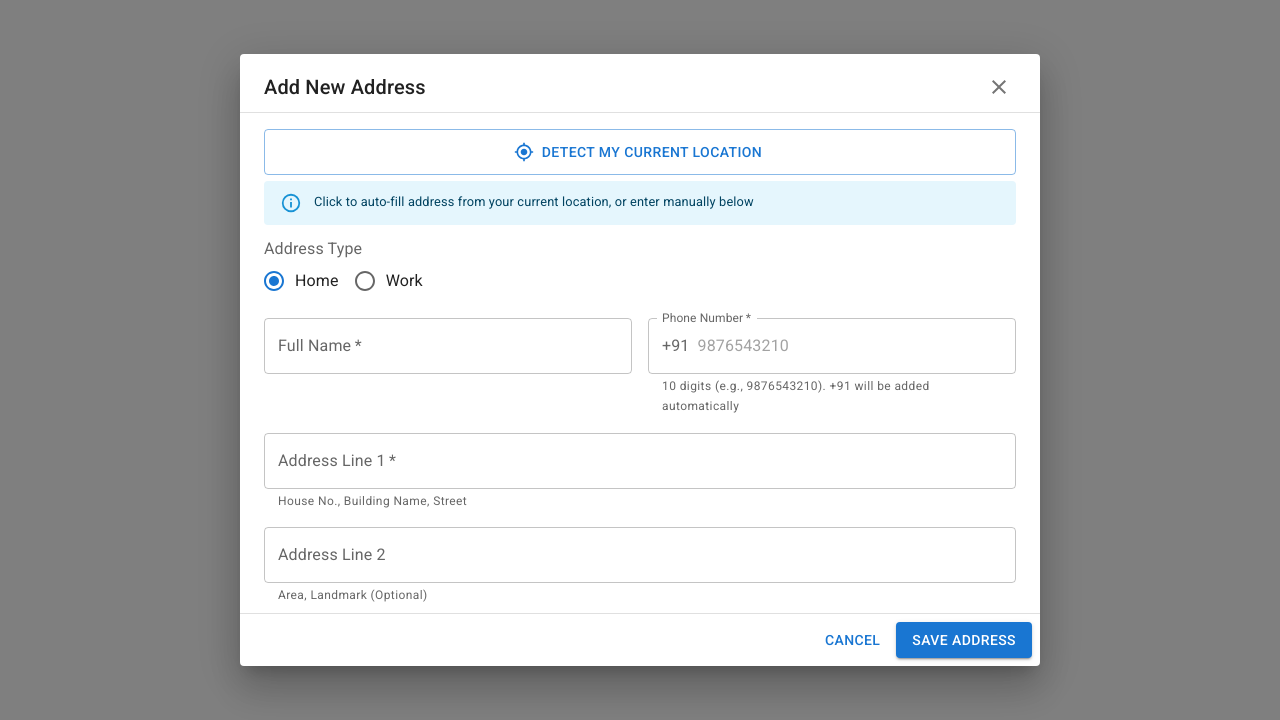
Test case: AddressForm Component › Form Validation › shows validation errors when submitting empty form
Click the button "Save Address": (964, 640) top-left (896, 622), bottom-right (1032, 658)
(page scrolled)
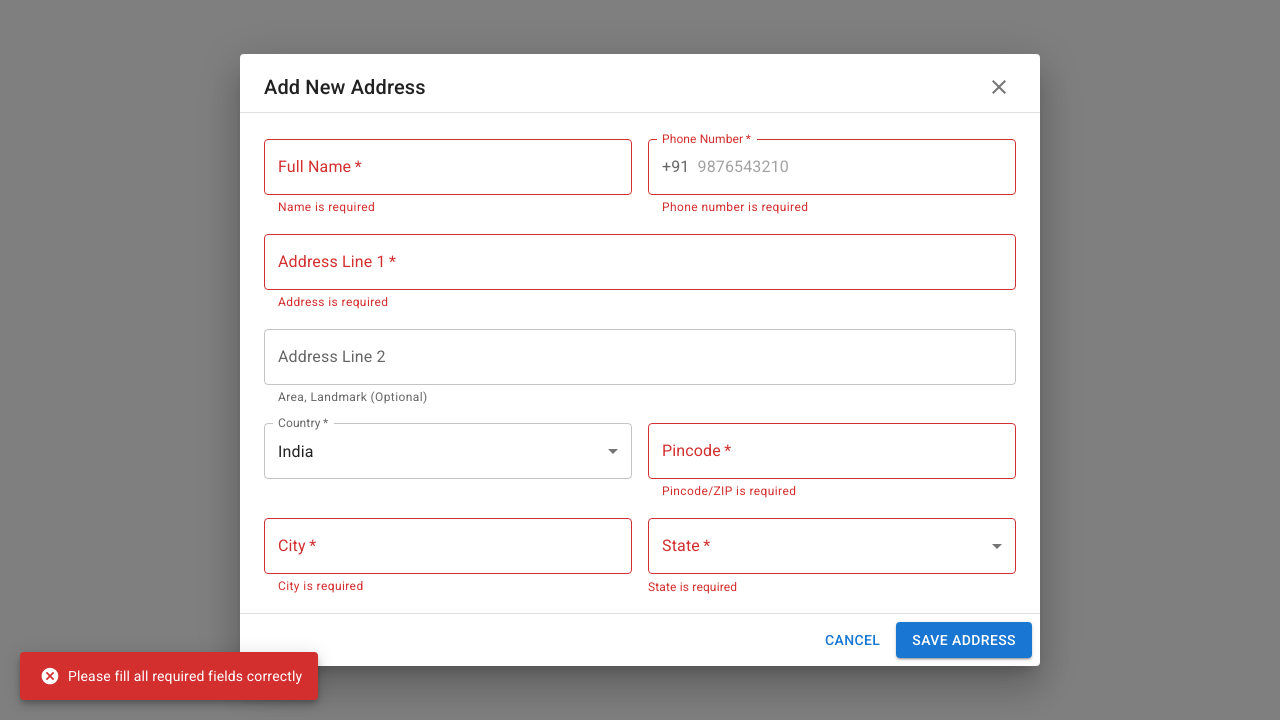
Now the text "Name is required" is shown, box top-left (278, 200), bottom-right (375, 214)
Now the text "Phone number is required" is shown, box top-left (662, 200), bottom-right (808, 214)
Now the text "Address is required" is shown, box top-left (278, 295), bottom-right (388, 309)
